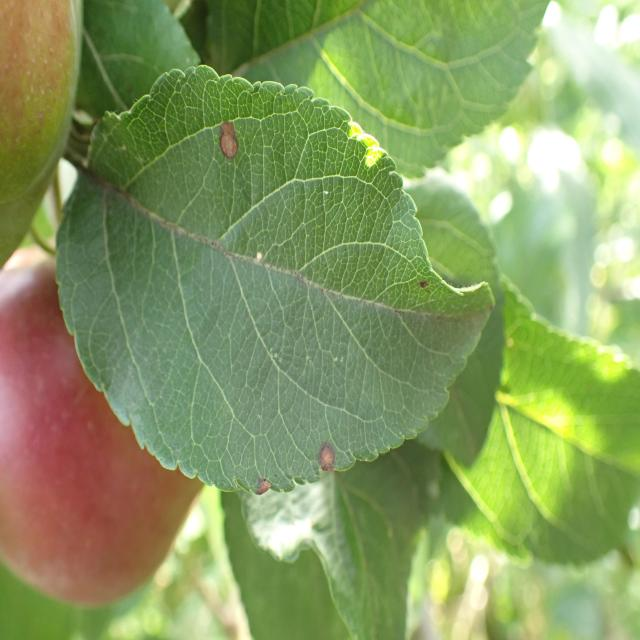Black Rot: (216, 102, 250, 198), (306, 426, 342, 498), (253, 474, 281, 524)
scab: (75, 130, 316, 327)
